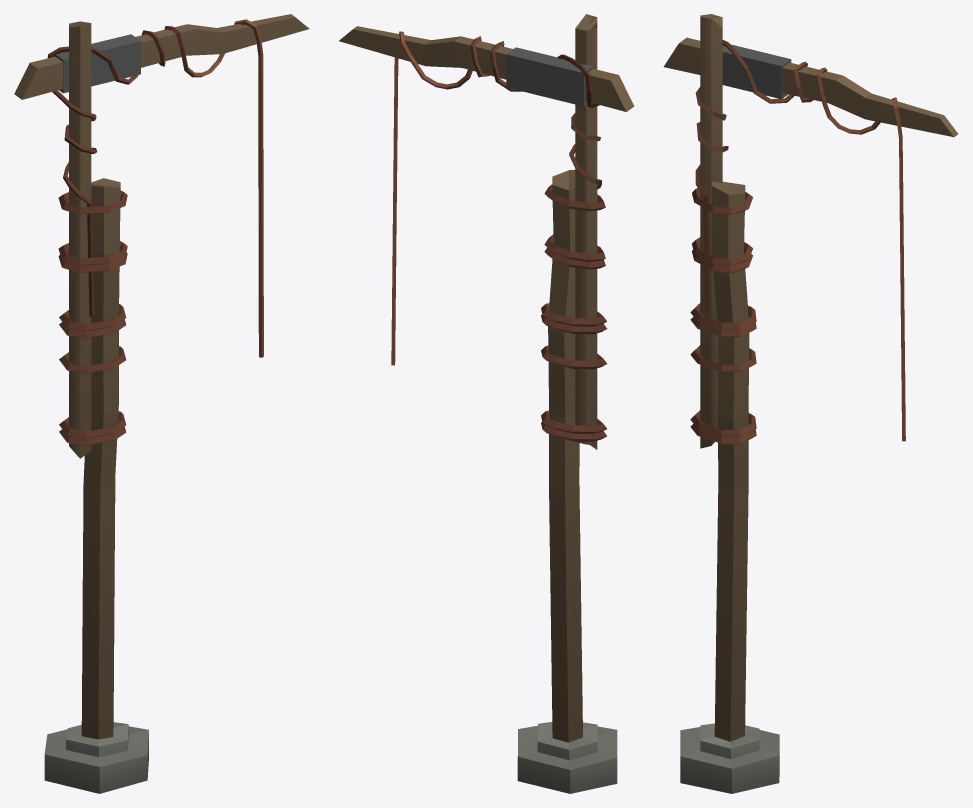
The model's file is ZLPC_Prop_D_01.FBX.
3 views of the same model, side by side, from view 1: azimuth 30°, elevation 25°; view 2: azimuth 150°, elevation 25°; view 3: azimuth 330°, elevation 25° (orthographic).
Parts seen in each view (by area): view 1: ZLPC_Prop_D_01; view 2: ZLPC_Prop_D_01; view 3: ZLPC_Prop_D_01.
Boxes of the visible parts, <box> form: ZLPC_Prop_D_01: <box>14,14,309,793</box>; ZLPC_Prop_D_01: <box>339,14,634,793</box>; ZLPC_Prop_D_01: <box>663,14,958,793</box>.
Bounding box in the file's own units: 151 × 376 × 44.99.
1 material, 1 textured.
